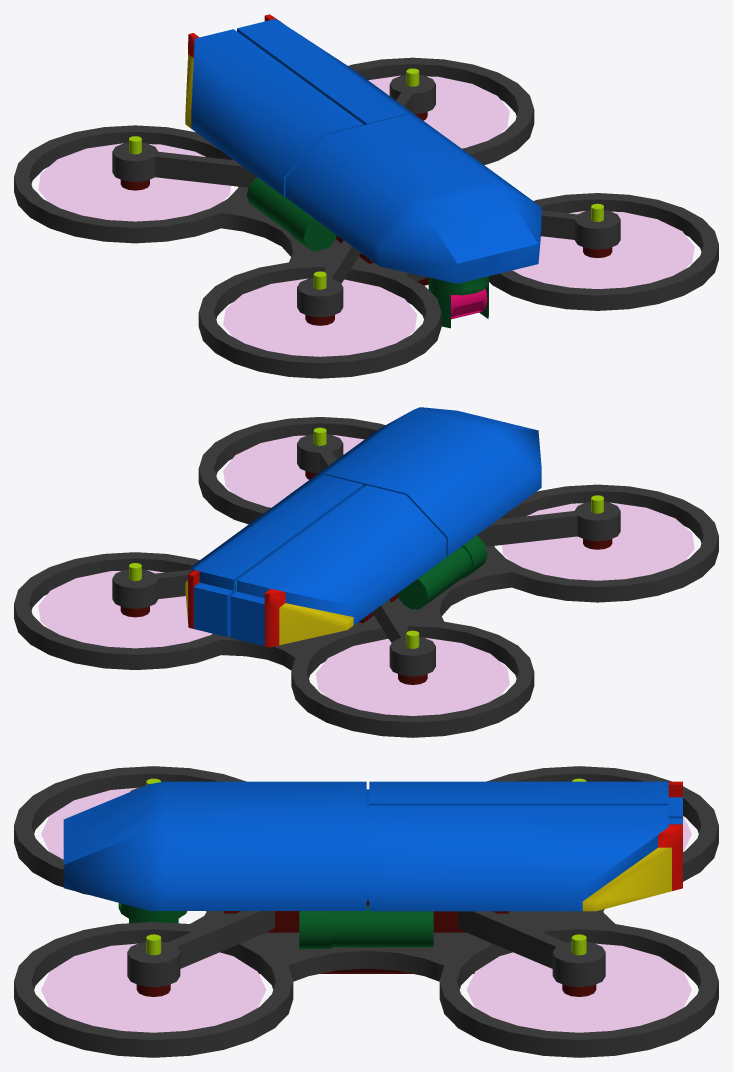
Rendered from Drone_A_01.fbx.
The picture shows the model from 3 angles, top to bottom: view 1: azimuth 30°, elevation 25°; view 2: azimuth 150°, elevation 25°; view 3: azimuth 270°, elevation 25°; orthographic projection. The views are drawn at different scales.
Parts seen in each view (by area): view 1: Drone_A; view 2: Drone_A; view 3: Drone_A.
Boxes of the visible parts, box(x1,y1,x2,y2) form: Drone_A: box(14, 14, 718, 378); Drone_A: box(14, 407, 718, 737); Drone_A: box(14, 766, 718, 1057).
Size of the model in its own units: 229 by 56.11 by 249.
